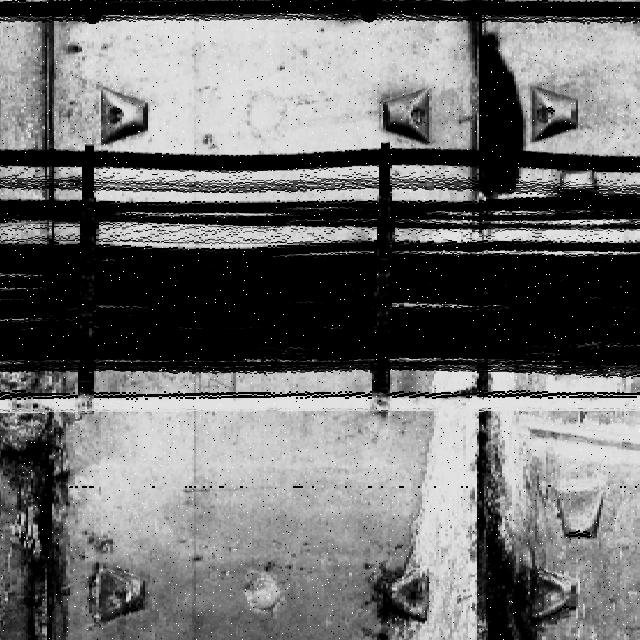leakage: (373, 371, 572, 640), (1, 410, 104, 640), (446, 11, 540, 204)
